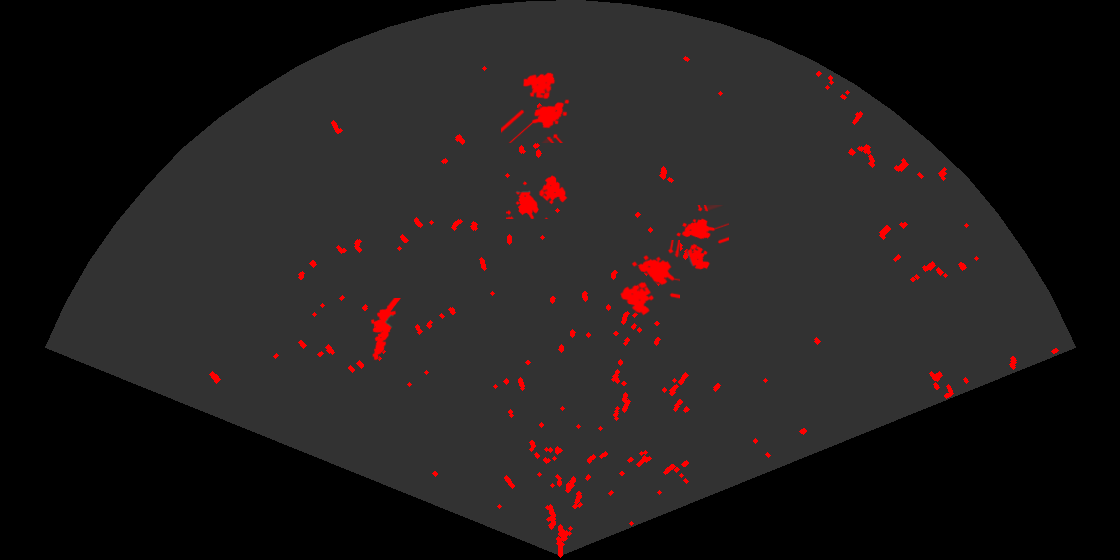cage: (501, 71, 571, 143), (619, 240, 680, 317), (675, 205, 729, 271), (506, 174, 569, 219)
frogman: (369, 298, 402, 362)
